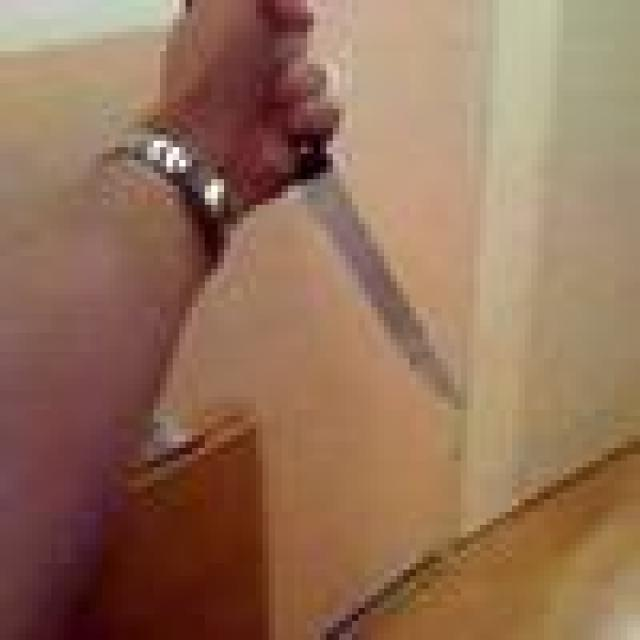knife: (304, 145, 461, 416)
